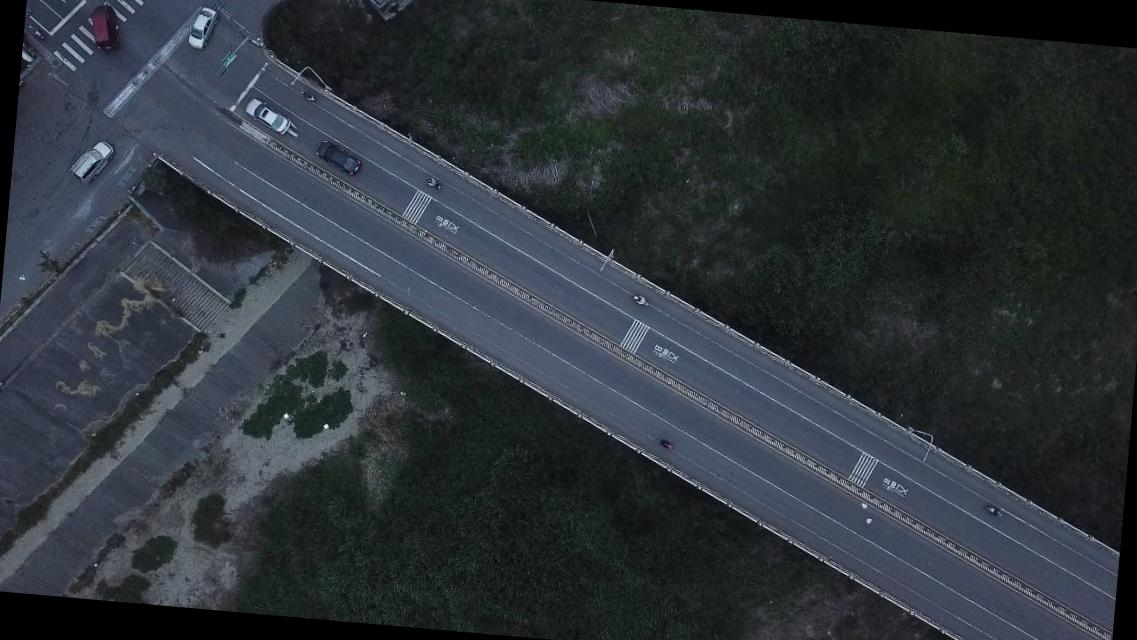vehicle: (69, 137, 115, 185), (242, 96, 293, 137), (314, 138, 363, 178), (86, 5, 120, 54), (187, 6, 217, 50)
